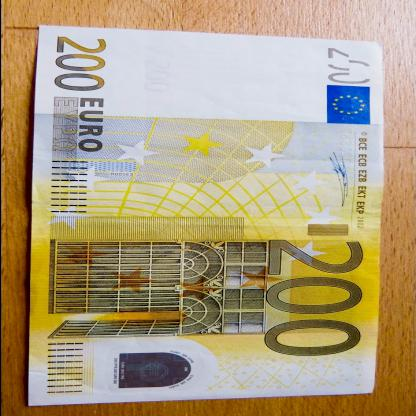euro_banknote: (20, 44, 398, 396)
